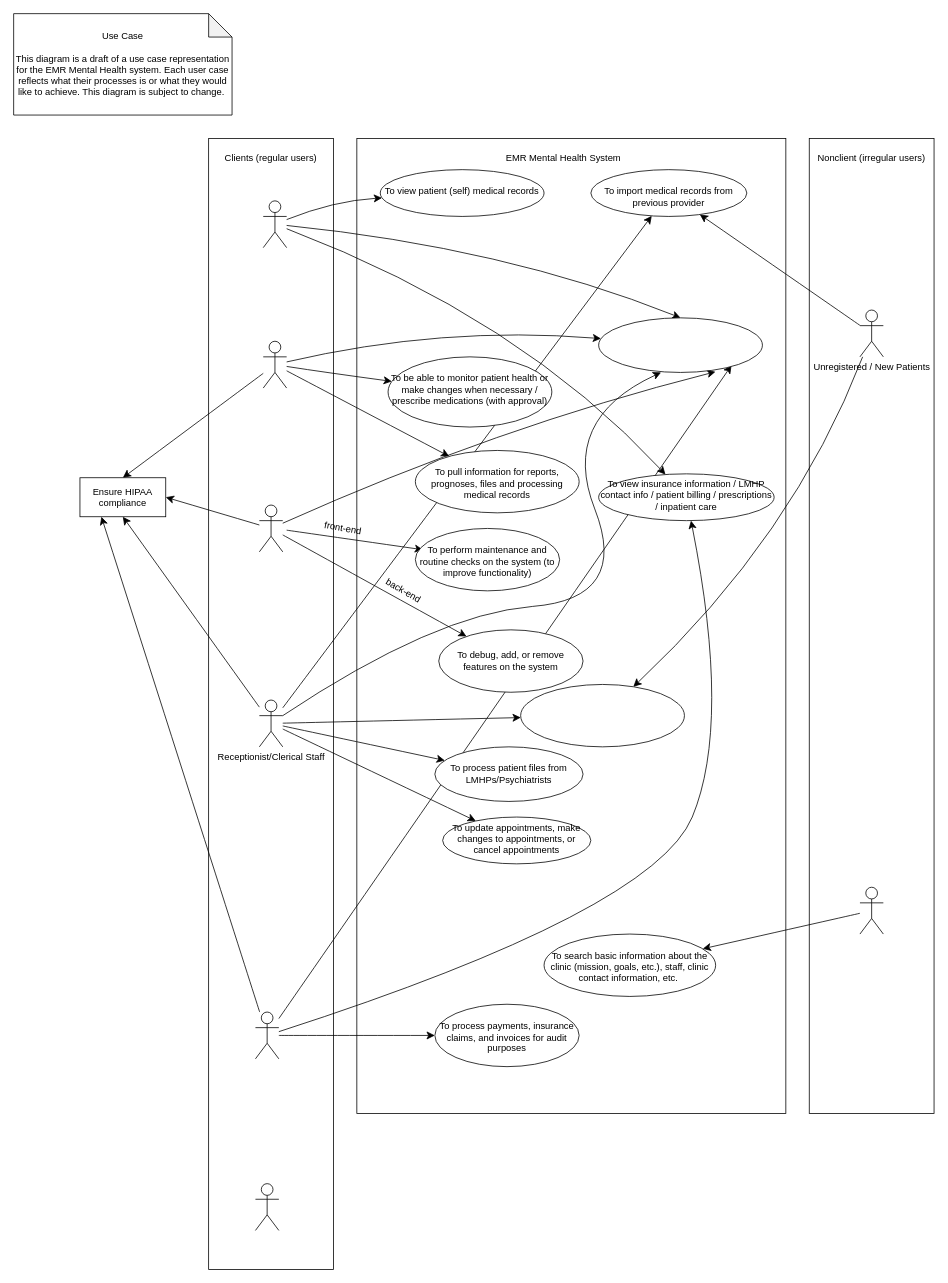
Image size: 948x1283. Some labels were removed from this diagram. The shapes that lost their labels are listed below. From the top down, each one's box as (x1, y1, x2, y2) in pixels, then its label:
(262, 200, 287, 248): Current Patients
(262, 340, 287, 388): LMHPs/Psychiatrists
(598, 317, 762, 372): To log into account / authenticate user
(259, 504, 283, 552): Administrators / Third-Party Contractors
(520, 684, 684, 747): To schedule appointments and LMHP/psychiatrist-patient consultations
(859, 886, 883, 934): External
(255, 1011, 279, 1059): Billing & Coding
(255, 1183, 279, 1230): Shareholders
